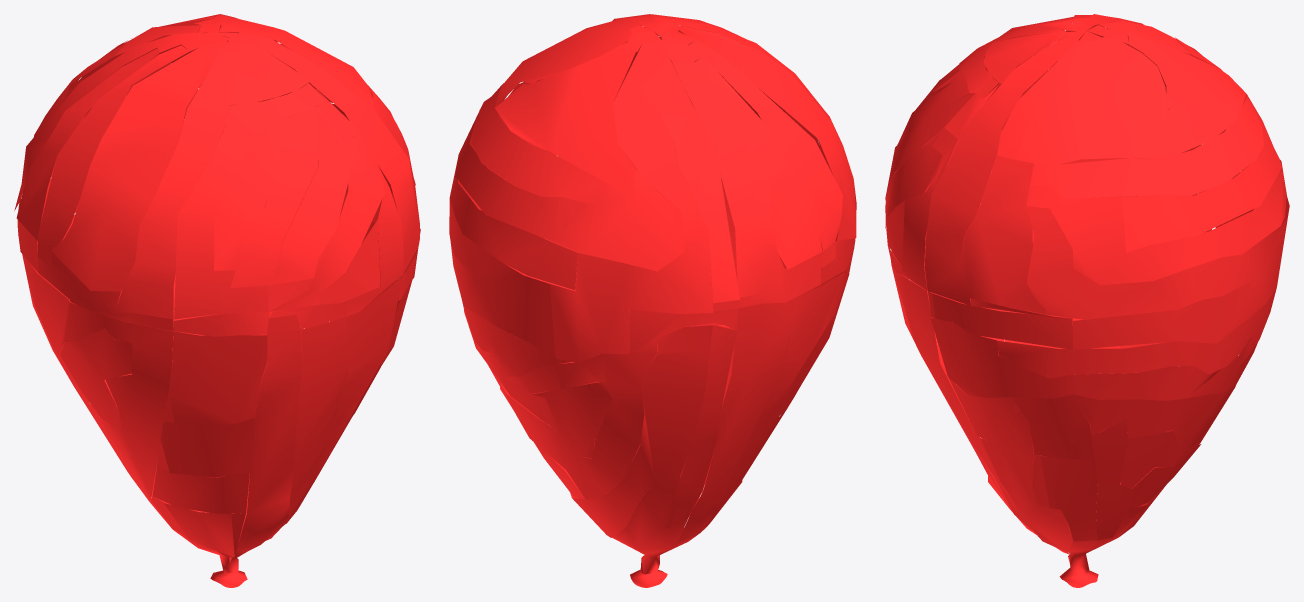
The model's file is baloon2.fbx.
3 renders of one model, left to right at view 1: azimuth 30°, elevation 25°; view 2: azimuth 150°, elevation 25°; view 3: azimuth 270°, elevation 25°, orthographic.
Parts seen in each view (by area): view 1: Sphere; view 2: Sphere; view 3: Sphere.
Part boxes in pixels (x1,y1,x2,y2): Sphere: [14, 14, 420, 587]; Sphere: [449, 14, 856, 587]; Sphere: [885, 14, 1289, 587].
Bounding box in the file's own units: 194 × 287 × 193.
